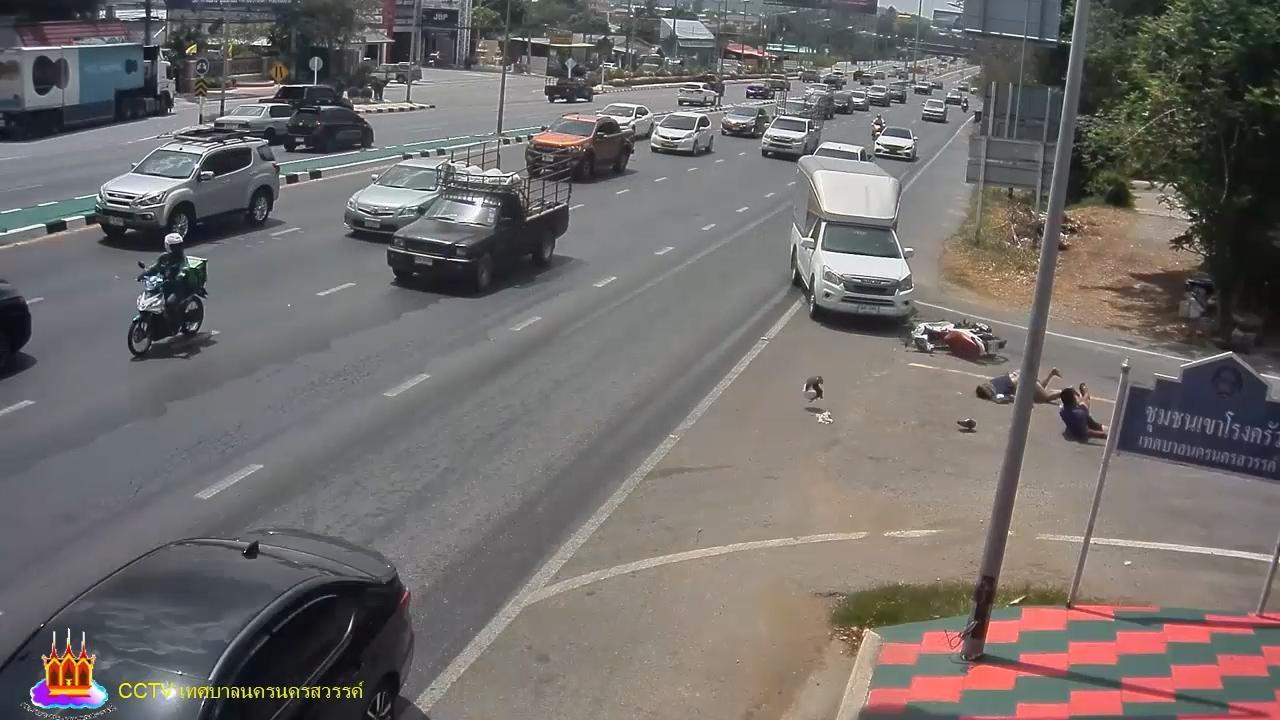accident: (974, 368, 1065, 408), (1060, 381, 1113, 446)
